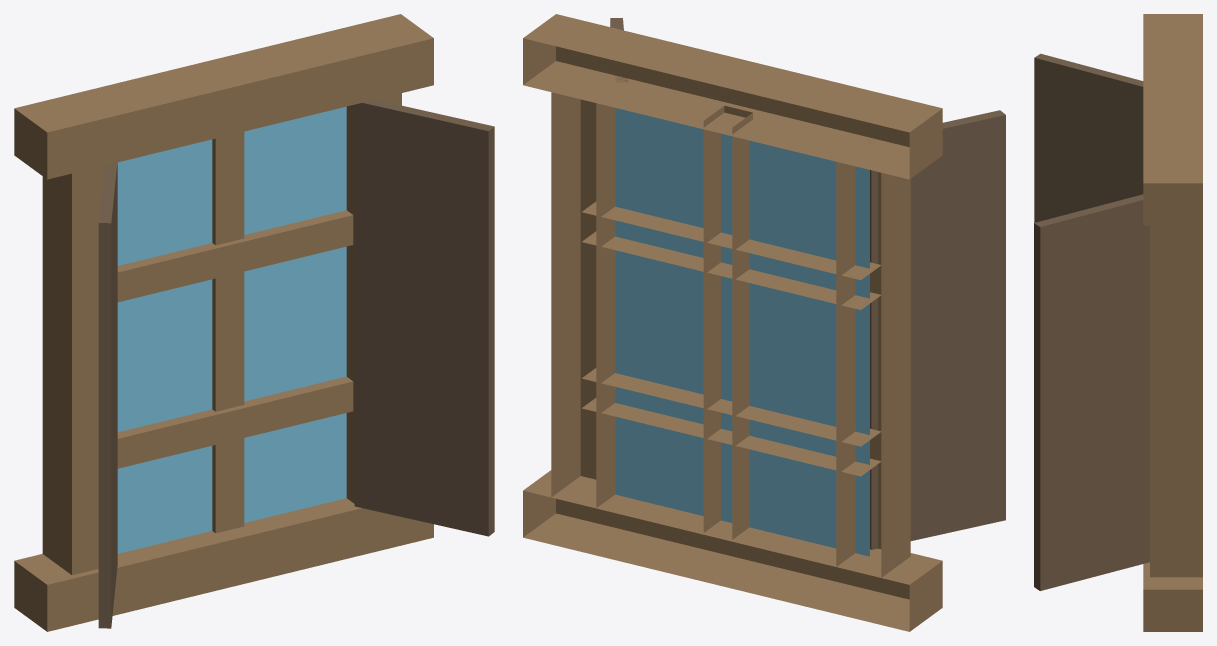
Rendered from House_Window_03.fbx.
3 renders of one model, left to right at view 1: azimuth 30°, elevation 25°; view 2: azimuth 150°, elevation 25°; view 3: azimuth 270°, elevation 25°, orthographic. The views are drawn at different scales.
Visible parts, largest first — view 1: House_Window_03; view 2: House_Window_03; view 3: House_Window_03.
Boxes of the visible parts, left/top/right/bottom form: House_Window_03: left=14, top=14, right=494, bottom=631; House_Window_03: left=523, top=14, right=1005, bottom=631; House_Window_03: left=1034, top=14, right=1202, bottom=631.
Size of the model in its own units: 38.81 by 46.78 by 15.95.
